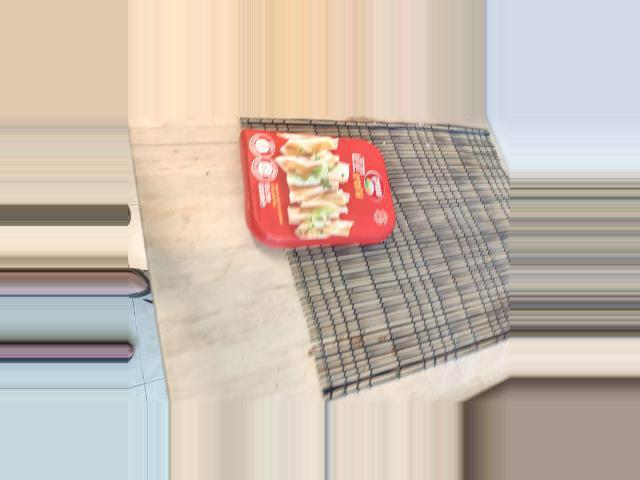cheese: (231, 233, 360, 416)
